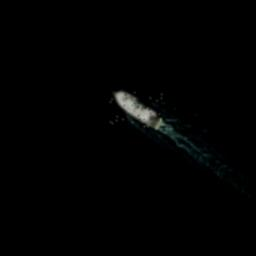boat: (108, 88, 162, 128)
